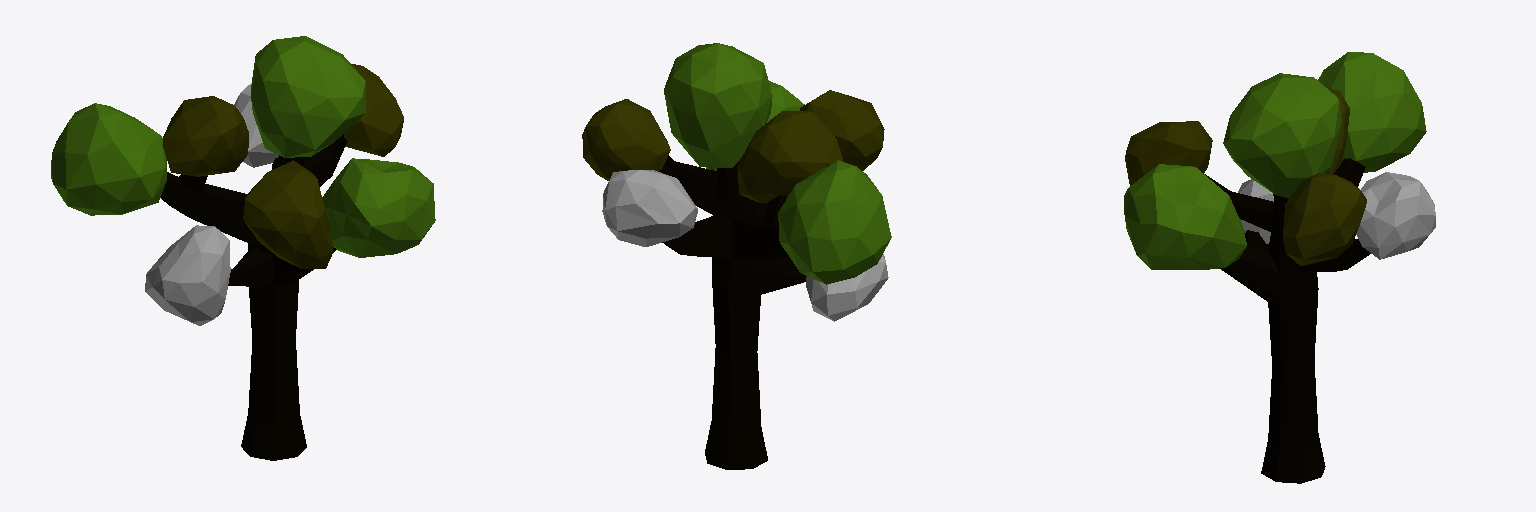
The model's file is tree2.obj.
3 renders of one model, left to right at view 1: azimuth 30°, elevation 25°; view 2: azimuth 150°, elevation 25°; view 3: azimuth 270°, elevation 25°, orthographic.
Parts seen in each view (by area): view 1: Arbre_Normal_Cylinder.002; view 2: Arbre_Normal_Cylinder.002; view 3: Arbre_Normal_Cylinder.002.
Part boxes in pixels (left/top/right/bottom): Arbre_Normal_Cylinder.002: left=51, top=36, right=435, bottom=460; Arbre_Normal_Cylinder.002: left=582, top=43, right=891, bottom=469; Arbre_Normal_Cylinder.002: left=1124, top=52, right=1435, bottom=483.
Size of the model in its own units: 3.18 by 3.92 by 2.75.